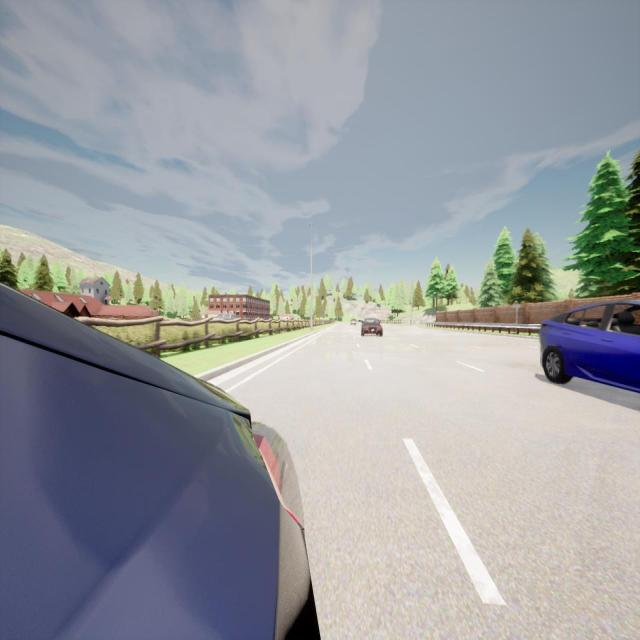Traffic_Signs: (512, 300, 521, 312)
Vehicle: (0, 284, 318, 638), (539, 301, 640, 392), (361, 317, 384, 338), (349, 318, 358, 327)
